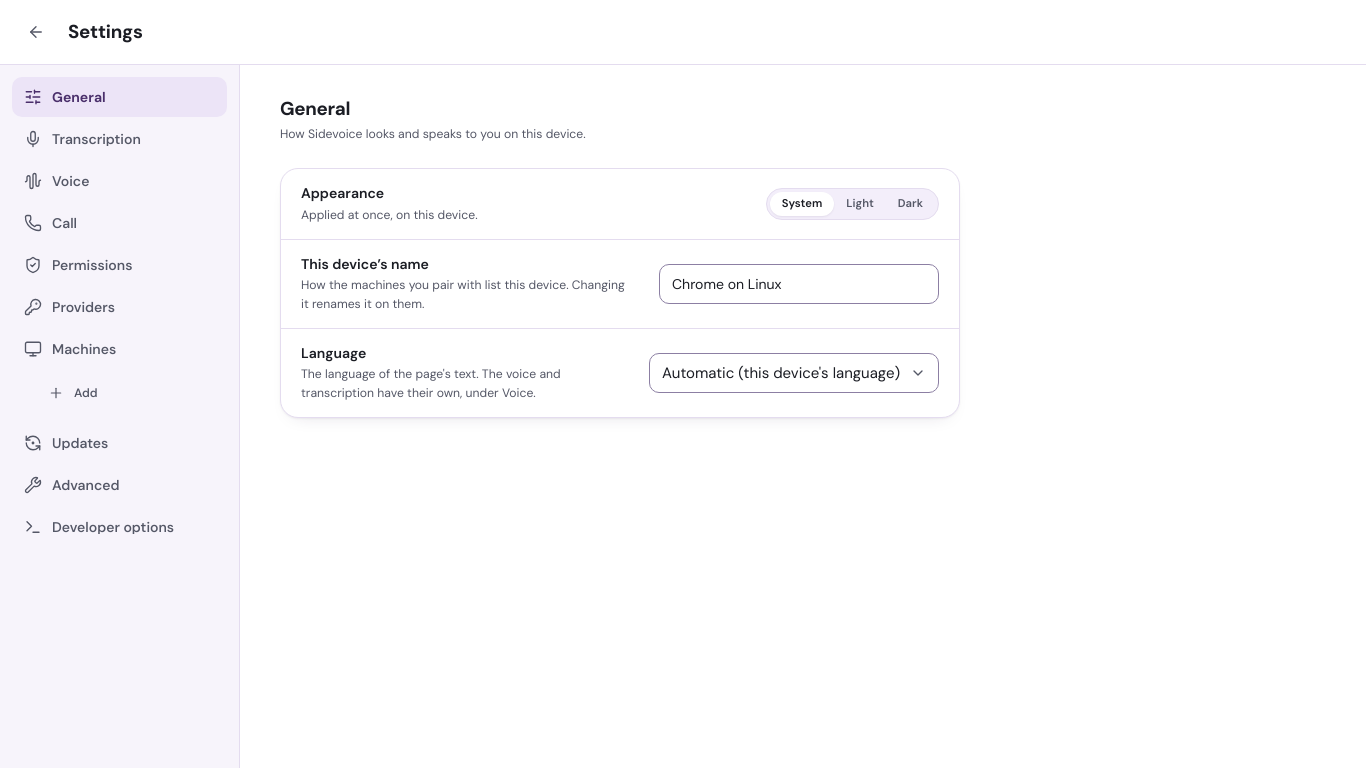
it: turning developer mode off from its own page takes the section away and lands on General, its entry focused
The width and height of the screenshot is (1366, 768).
Click the button with id "settings-developer" at {"x": 120, "y": 527}, box [12, 507, 227, 547]
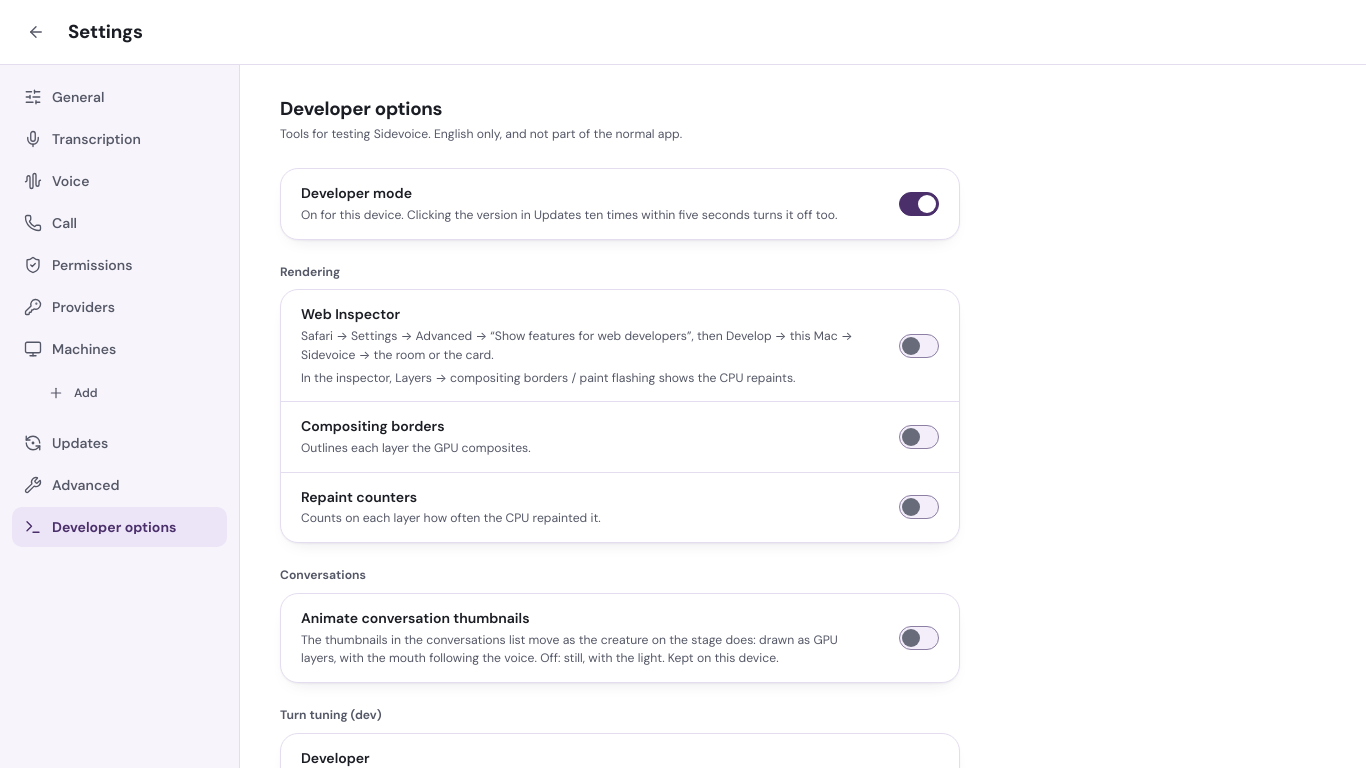
Click the switch named "Developer mode" at {"x": 919, "y": 204}, box [899, 192, 939, 216]
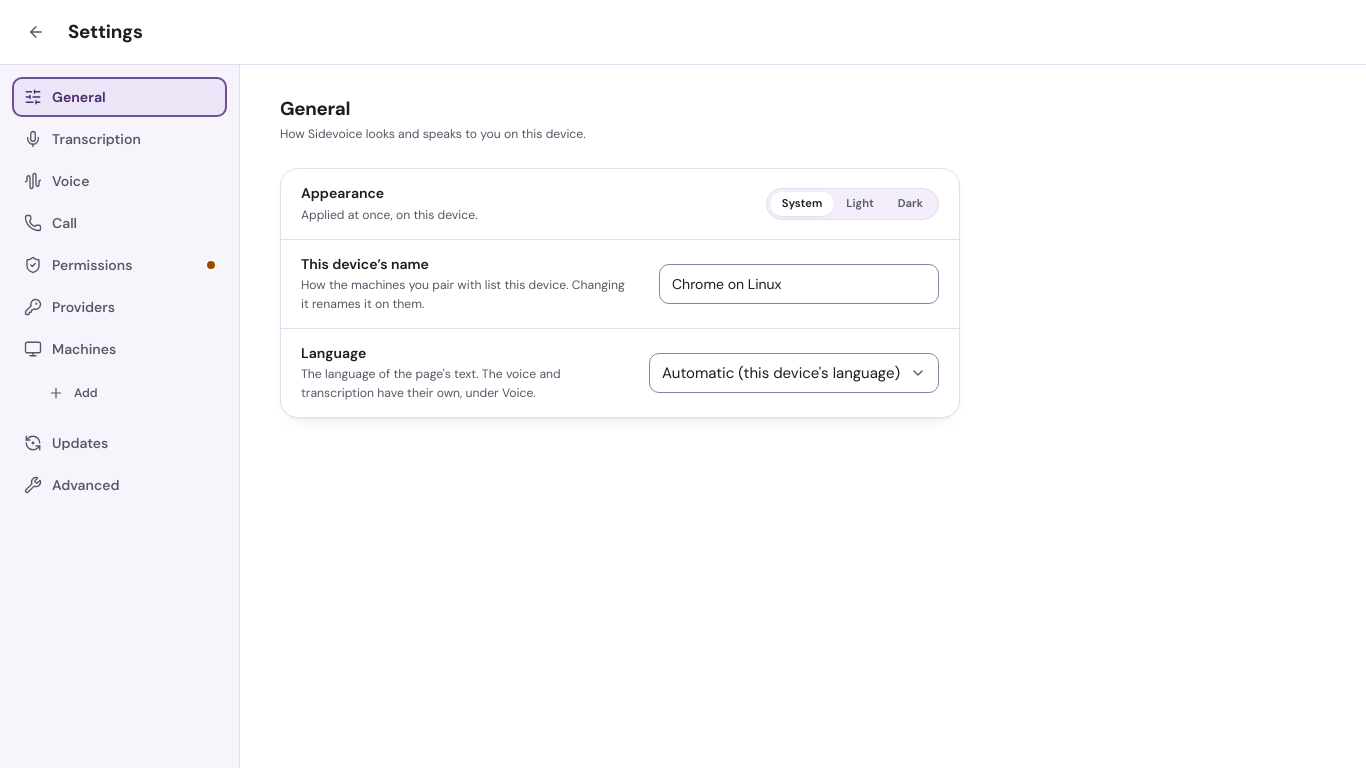
Check: the button "Developer options" no longer shows "Developer options"
Check: the button "Developer options" is gone
